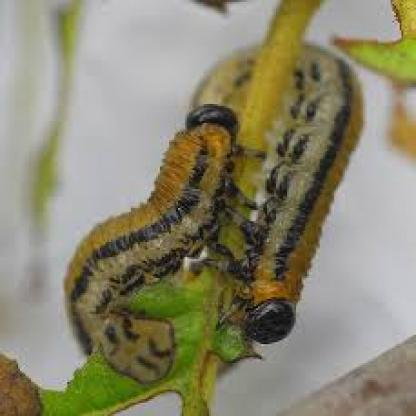sawfly: (60, 98, 261, 378), (193, 36, 368, 339)
